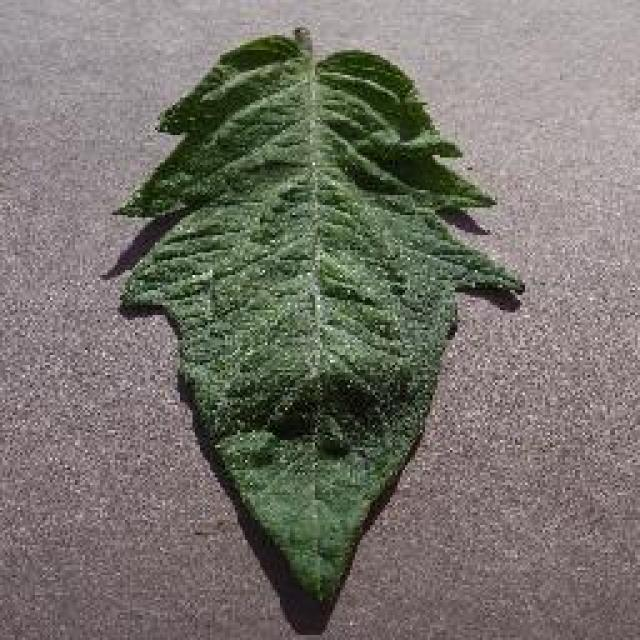Tomato___Spider_mites Two-spotted_spider_mite: (120, 30, 518, 600)
